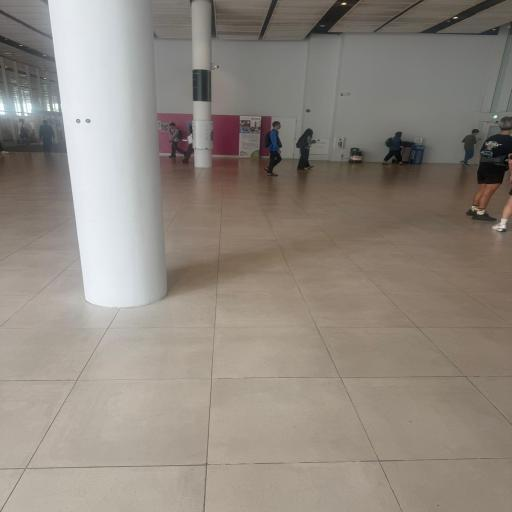person_left: (168, 122, 187, 158), (182, 126, 194, 164)
person_right: (264, 120, 283, 176), (295, 128, 317, 170), (382, 131, 406, 166), (459, 128, 481, 166)
